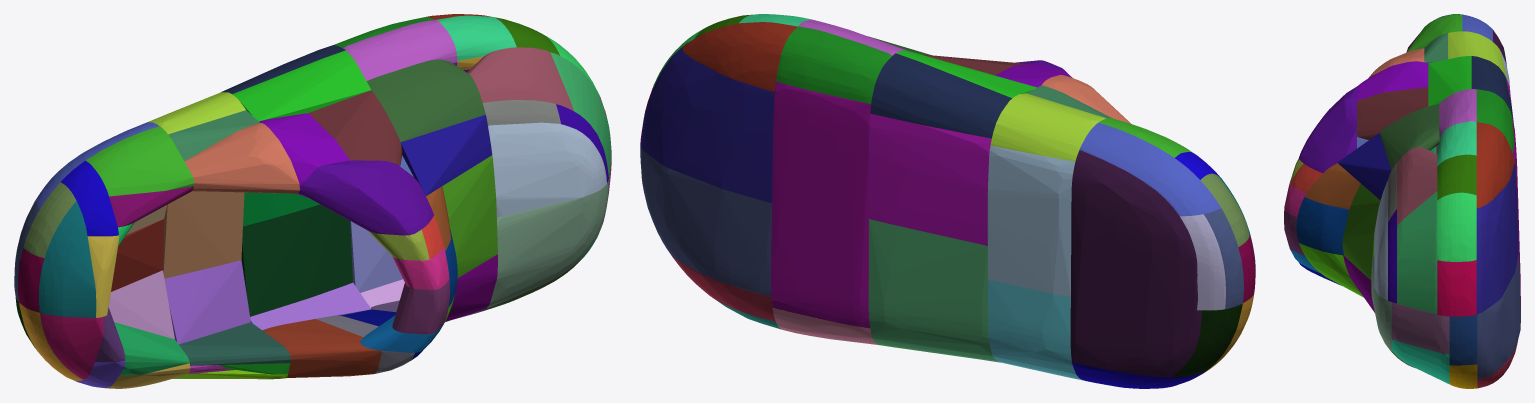
Rendered from coacd_collision.obj.
3 renders of one model, left to right at view 1: azimuth 30°, elevation 25°; view 2: azimuth 150°, elevation 25°; view 3: azimuth 270°, elevation 25°, orthographic. The views are drawn at different scales.
Visible parts, largest first — view 1: geometry_25, geometry_6, geometry_0, geometry_27, geometry_19, geometry_52, geometry_9, geometry_50, geometry_46, geometry_74, geometry_85, geometry_30 (+47 smaller); view 2: geometry_26, geometry_14, geometry_3, geometry_18, geometry_22, geometry_54, geometry_16, geometry_21, geometry_2, geometry_8, geometry_47, geometry_34 (+18 smaller); view 3: geometry_18, geometry_10, geometry_16, geometry_27, geometry_36, geometry_15, geometry_30, geometry_13, geometry_65, geometry_19, geometry_42, geometry_41 (+29 smaller).
Part boxes in pixels (x1,y1,x2,y2): geometry_25: [241, 204, 352, 316]; geometry_6: [488, 122, 606, 217]; geometry_0: [486, 182, 608, 308]; geometry_27: [300, 160, 433, 235]; geometry_19: [366, 59, 485, 141]; geometry_52: [163, 191, 244, 278]; geometry_9: [184, 123, 299, 193]; geometry_50: [232, 50, 371, 121]; geometry_46: [164, 260, 250, 344]; geometry_74: [85, 126, 194, 196]; geometry_85: [39, 201, 96, 317]; geometry_30: [442, 155, 497, 277]; geometry_26: [1070, 150, 1201, 377]; geometry_14: [771, 81, 870, 328]; geometry_3: [868, 219, 999, 362]; geometry_18: [640, 47, 774, 203]; geometry_22: [869, 113, 991, 245]; geometry_54: [987, 145, 1075, 296]; geometry_16: [640, 148, 771, 297]; geometry_21: [870, 53, 1011, 138]; geometry_2: [988, 279, 1082, 380]; geometry_8: [776, 26, 892, 104]; geometry_47: [1079, 122, 1220, 216]; geometry_34: [990, 93, 1106, 161]; geometry_18: [1476, 162, 1518, 314]; geometry_10: [1397, 191, 1437, 314]; geometry_16: [1477, 253, 1520, 379]; geometry_27: [1299, 86, 1356, 173]; geometry_36: [1437, 192, 1476, 261]; geometry_15: [1476, 122, 1514, 208]; geometry_30: [1342, 183, 1380, 280]; geometry_13: [1397, 147, 1437, 225]; geometry_65: [1357, 87, 1428, 139]; geometry_19: [1379, 104, 1439, 170]; geometry_42: [1296, 197, 1349, 255]; geometry_41: [1391, 302, 1449, 354].
Size of the model in its own units: 199 by 94.99 by 83.07.
